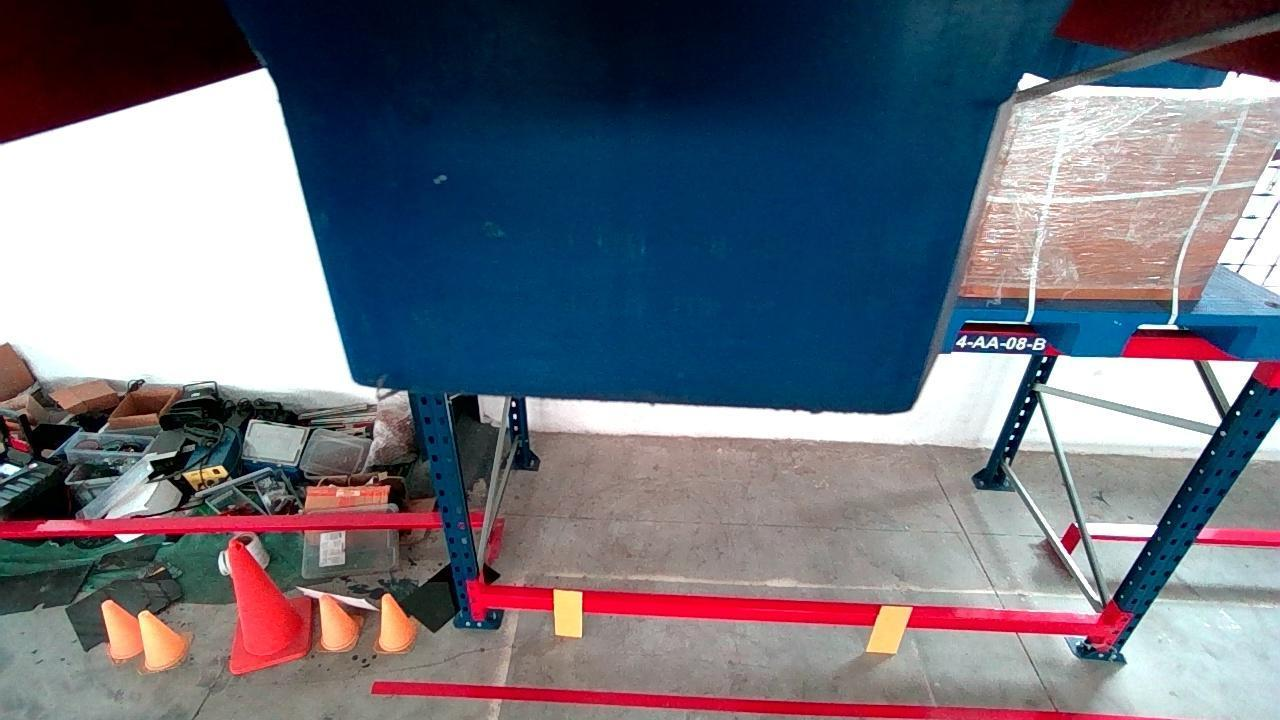h_rack: (481, 584, 1110, 635), (476, 590, 1111, 639)
orange_strip: (940, 303, 1280, 359), (870, 599, 906, 651), (552, 590, 584, 639)
red_line: (371, 677, 1192, 718)
